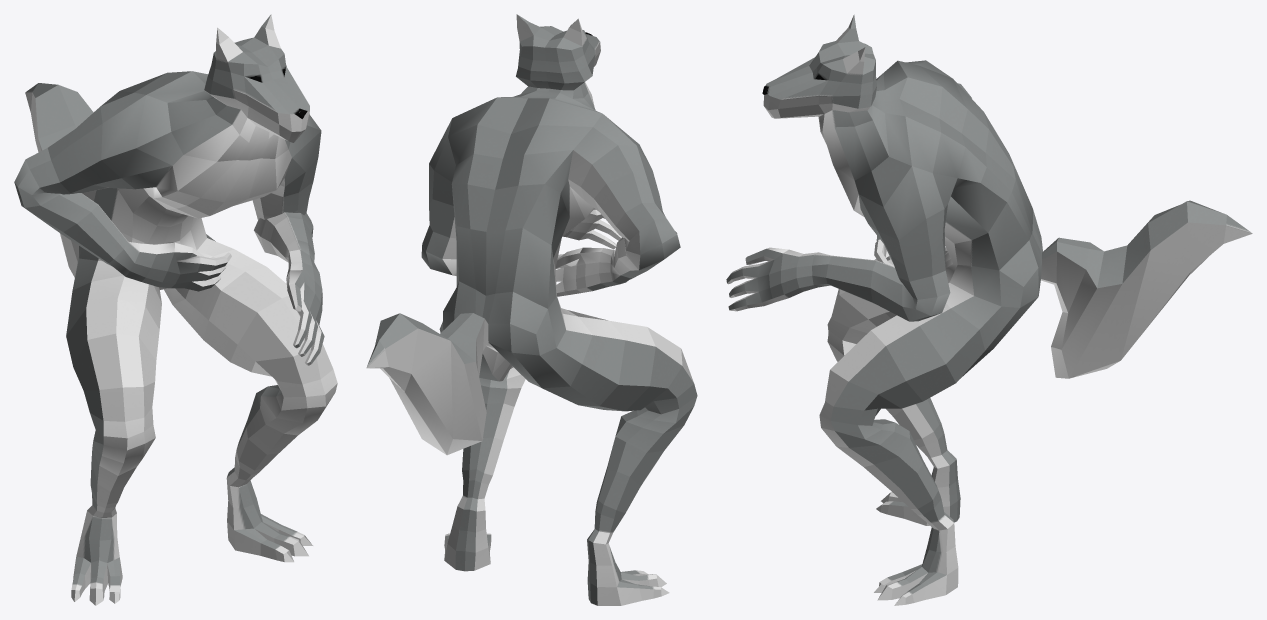
The model's file is WolfIdle_(86).obj.
The picture shows the model from 3 angles, left to right: view 1: azimuth 30°, elevation 25°; view 2: azimuth 150°, elevation 25°; view 3: azimuth 270°, elevation 25°; orthographic projection. The views are drawn at different scales.
Visible parts, largest first — view 1: Box001; view 2: Box001; view 3: Box001.
Part boxes in pixels (x1,y1,x2,y2): Box001: (14, 14, 337, 605); Box001: (366, 14, 697, 605); Box001: (726, 14, 1252, 605).
Size of the model in its own units: 67.83 by 131 by 116.
